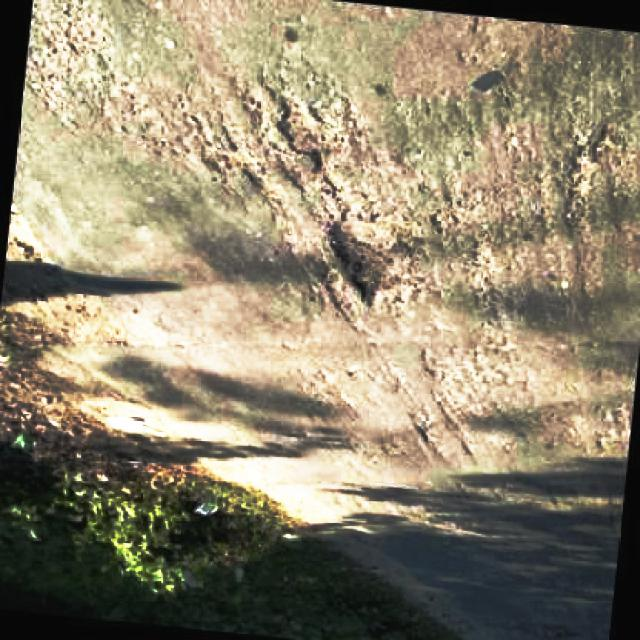pothole: (326, 217, 425, 320), (266, 80, 354, 185), (551, 125, 638, 222)
